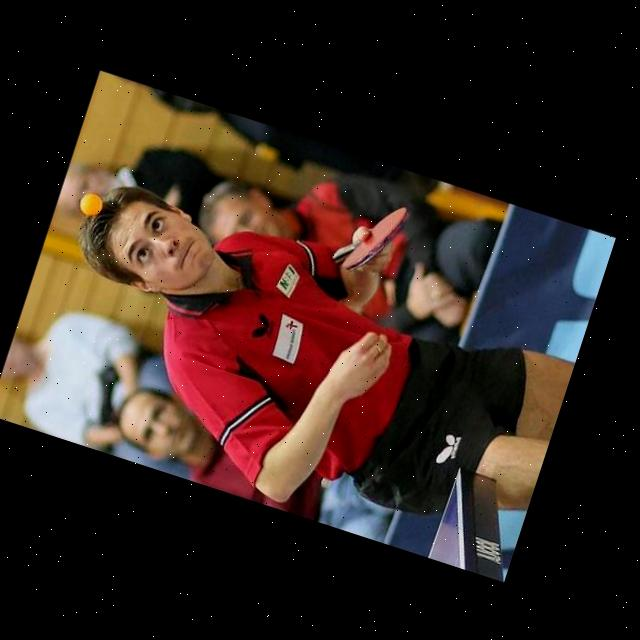ping-pong-ball: (76, 189, 106, 220)
